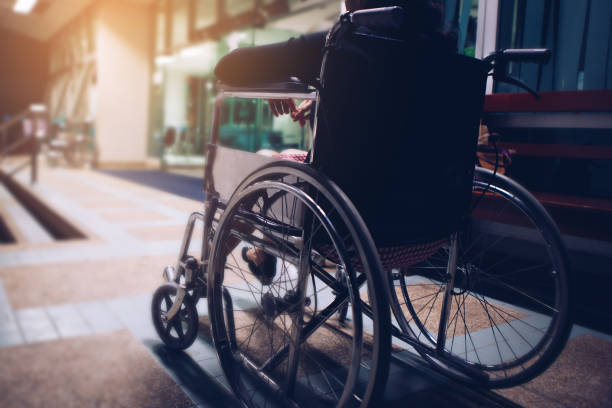wheel_chair: (145, 17, 596, 404)
